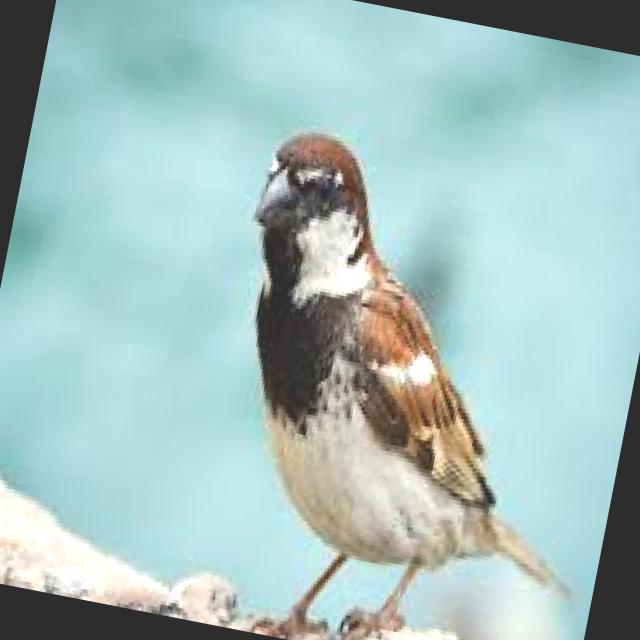bird: (171, 109, 640, 640)
